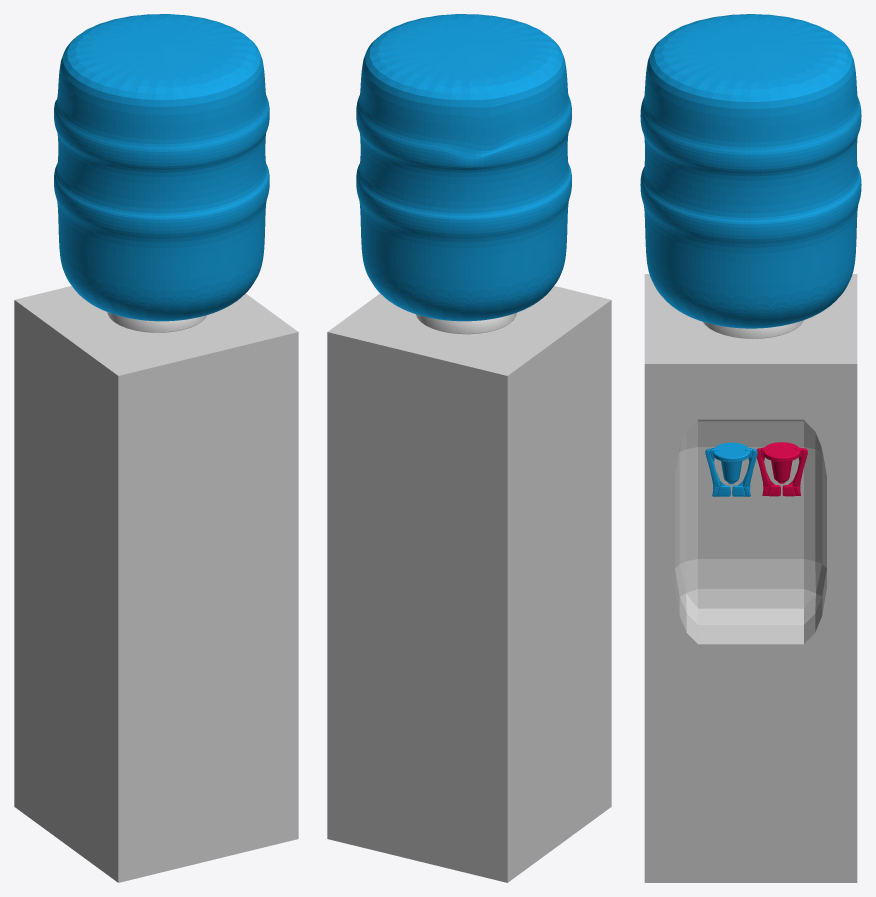
File: Water Dispenser Visual.fbx
3 views of the same model, side by side, from view 1: azimuth 30°, elevation 25°; view 2: azimuth 150°, elevation 25°; view 3: azimuth 270°, elevation 25° (orthographic). The views are drawn at different scales.
Visible parts, largest first — view 1: Cube, Circle.007, Circle.006; view 2: Cube, Circle.007, Circle.006; view 3: Cube, Circle.007, Circle.002, Circle.005, Circle.001, Circle.004, Circle.006.
Boxes of the visible parts, bbox=[...] form: Cube: bbox=[14, 286, 298, 882]; Circle.007: bbox=[54, 14, 269, 321]; Circle.006: bbox=[107, 312, 207, 332]; Cube: bbox=[327, 286, 611, 882]; Circle.007: bbox=[356, 14, 571, 321]; Circle.006: bbox=[416, 313, 516, 334]; Cube: bbox=[644, 274, 857, 882]; Circle.007: bbox=[640, 14, 861, 328]; Circle.002: bbox=[705, 447, 757, 496]; Circle.005: bbox=[756, 447, 807, 496]; Circle.001: bbox=[713, 442, 750, 484]; Circle.004: bbox=[763, 442, 800, 483]; Circle.006: bbox=[703, 320, 803, 338].
Size of the model in its own units: 210 by 821 by 208.
